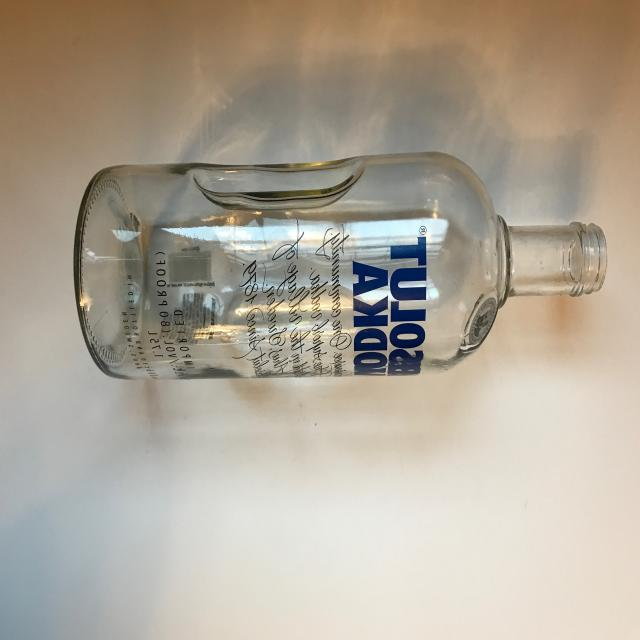glass: (73, 150, 608, 381)
